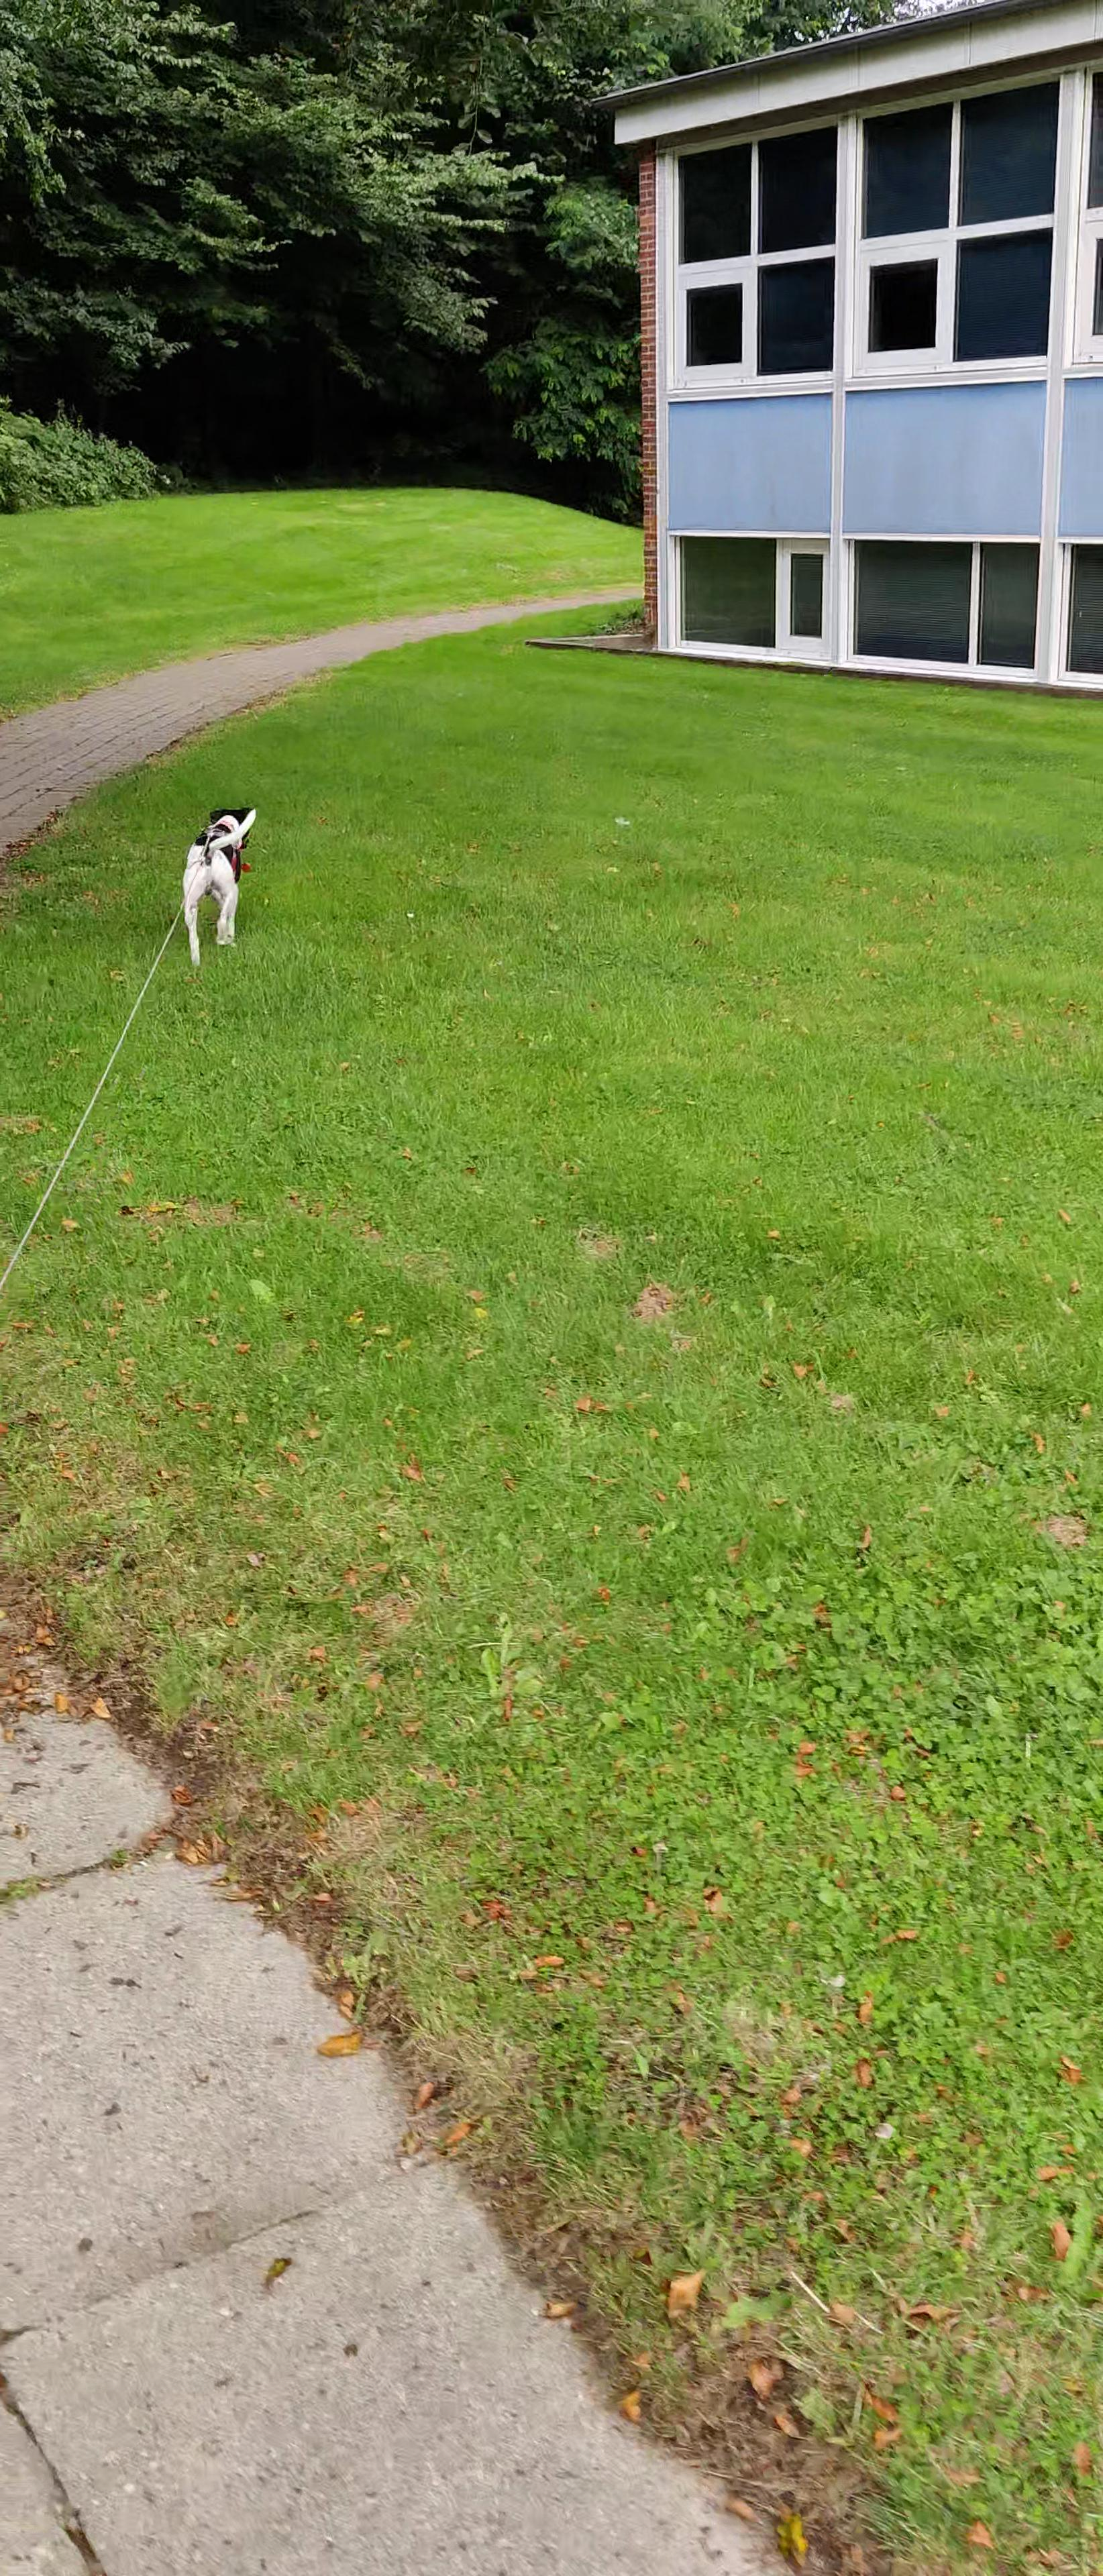Dog: (178, 803, 258, 971)
